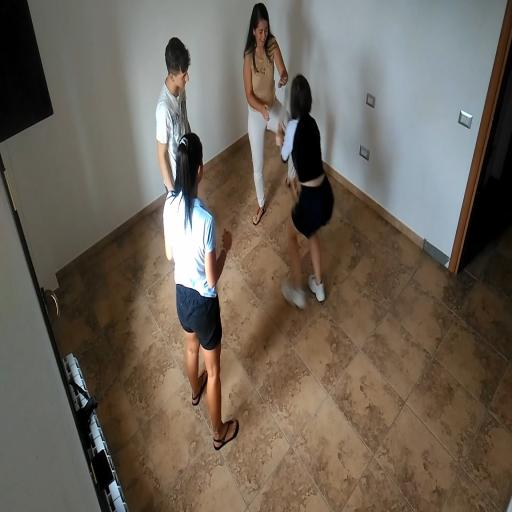violencia: (232, 0, 334, 312)
